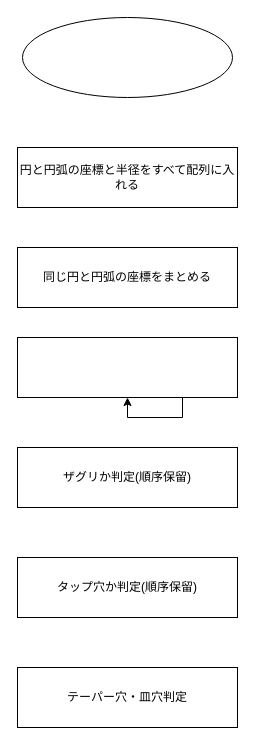
Image size: 255x745. Some labels were removed from this diagram. The centre of each missing label's shape, as x and y in pixels:
"同心円ではないものに対して、止め穴・通し穴か判定" belongs at (127,367).
"開始" belongs at (127,57).
